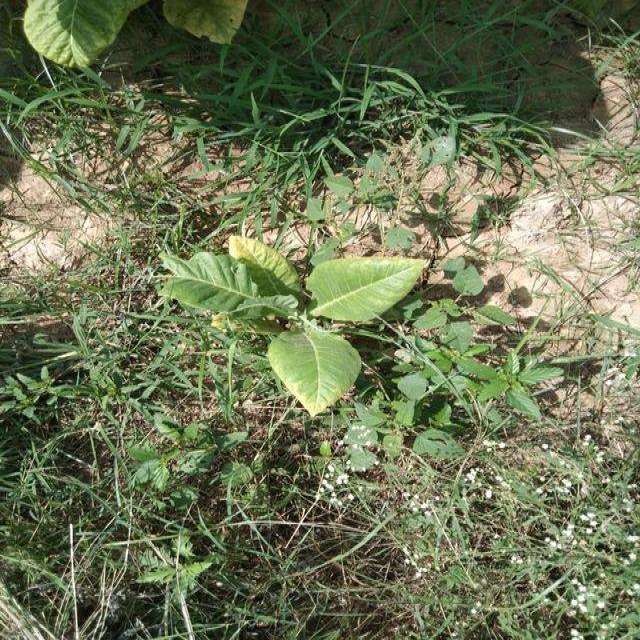crop: (170, 232, 410, 418)
